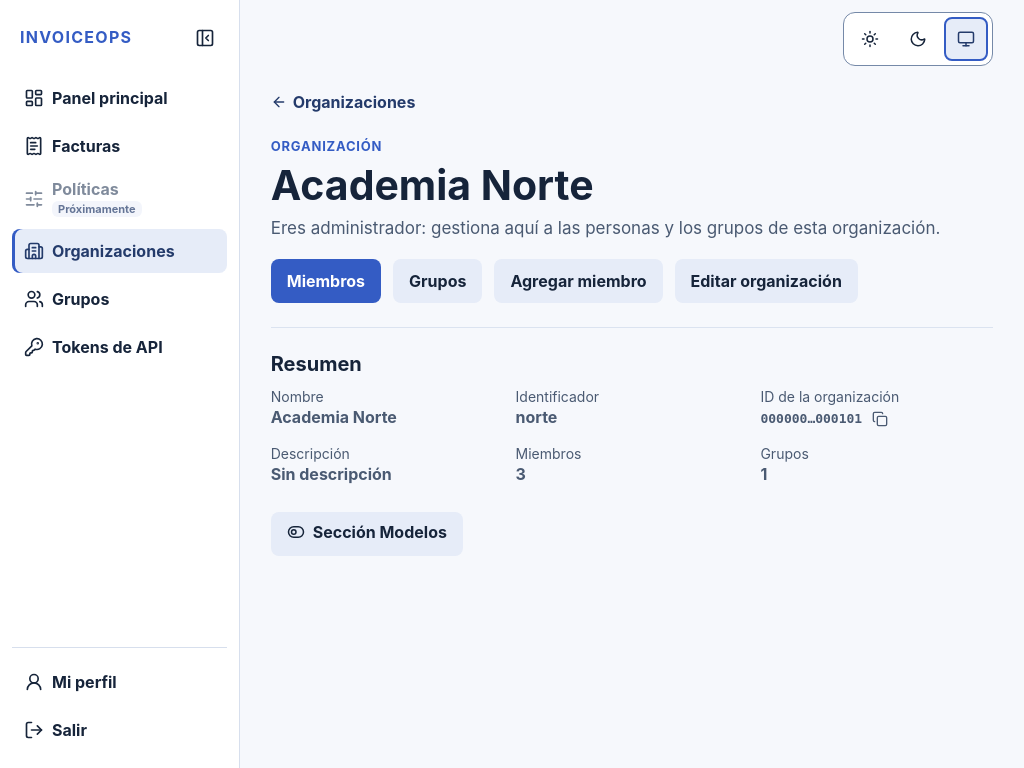
Test case: MLOPS-05 organization switch for the Models section › lets an ADMIN turn it on, then shows «Modelos» in the navigation
Click the switch labelled "Sección Modelos": [367, 534] box [271,512,463,556]
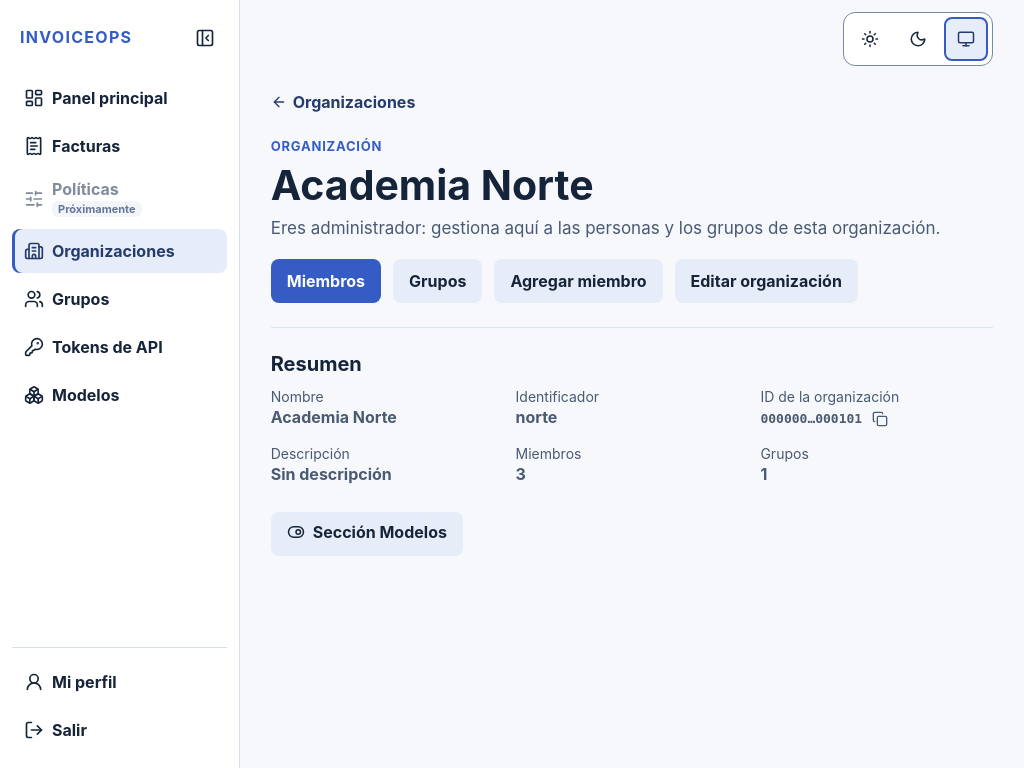
Expected: the link "Modelos" is shown, [24,386,120,406]
